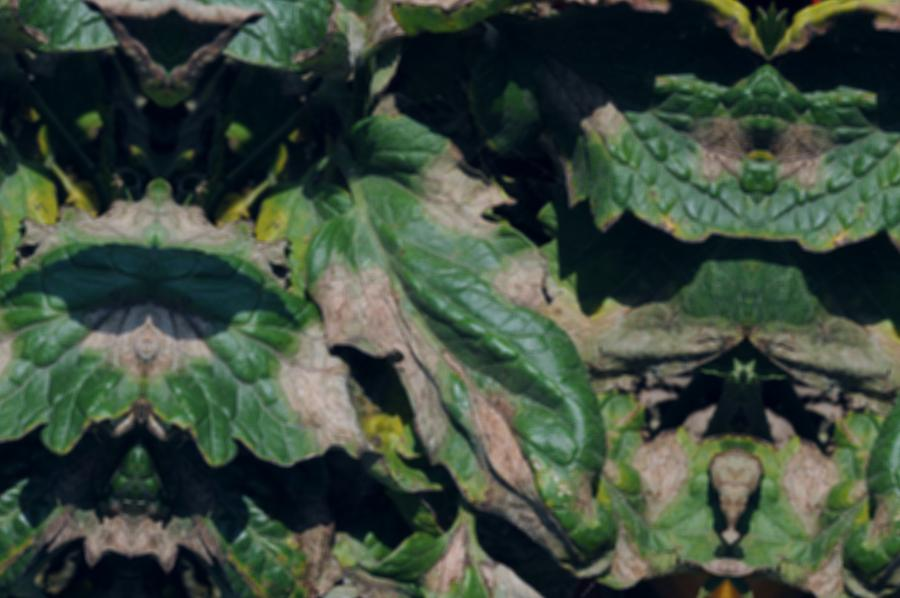Tomato leaf late blight: (291, 96, 671, 578), (148, 179, 402, 492), (495, 0, 772, 260), (287, 0, 600, 101), (393, 504, 722, 598), (170, 0, 367, 108)
